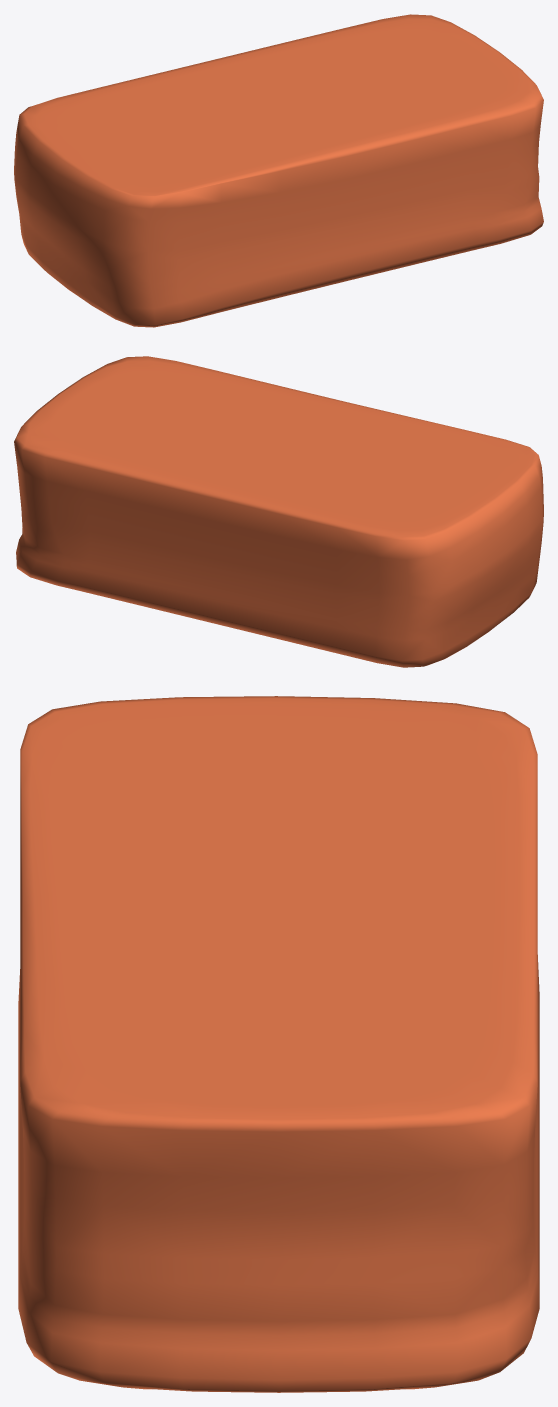
Rendered from RectangleStone.fbx.
3 renders of one model, top to bottom at view 1: azimuth 30°, elevation 25°; view 2: azimuth 150°, elevation 25°; view 3: azimuth 270°, elevation 25°, orthographic. The views are drawn at different scales.
Visible parts, largest first — view 1: Rectangle.001; view 2: Rectangle.001; view 3: Rectangle.001.
Part boxes in pixels (x1=…): Rectangle.001: x1=14, y1=14, x2=543, y2=327; Rectangle.001: x1=14, y1=356, x2=543, y2=667; Rectangle.001: x1=18, y1=696, x2=539, y2=1392.
Bounding box in the file's own units: 4.42 × 2.5 × 8.9.
